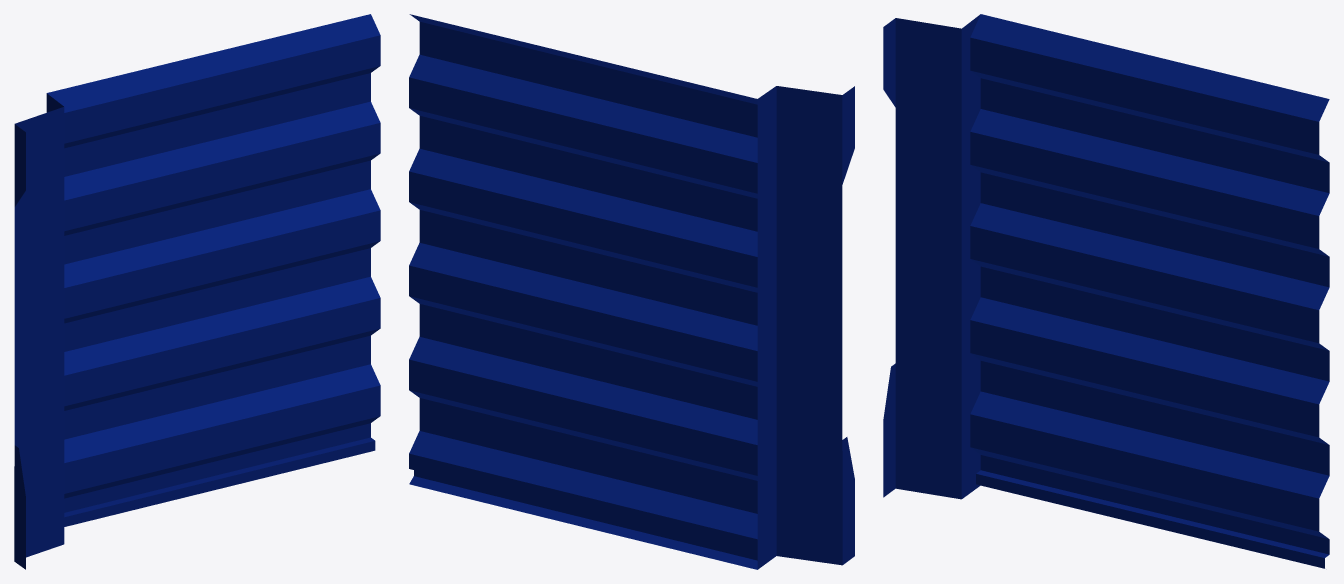
File: mesh_BuildingA_GarageLowerLeft_v2.fbx
The picture shows the model from 3 angles, left to right: view 1: azimuth 30°, elevation 25°; view 2: azimuth 150°, elevation 25°; view 3: azimuth 330°, elevation 25°; orthographic projection. The views are drawn at different scales.
Visible parts, largest first — view 1: mesh_BuildingA_GarageLowerLeft; view 2: mesh_BuildingA_GarageLowerLeft; view 3: mesh_BuildingA_GarageLowerLeft.
Boxes of the visible parts, x1,y1,x2,y2 form: mesh_BuildingA_GarageLowerLeft: [14, 14, 380, 569]; mesh_BuildingA_GarageLowerLeft: [409, 14, 854, 569]; mesh_BuildingA_GarageLowerLeft: [883, 14, 1329, 568].
Size of the model in its own units: 182 by 201 by 29.06.
